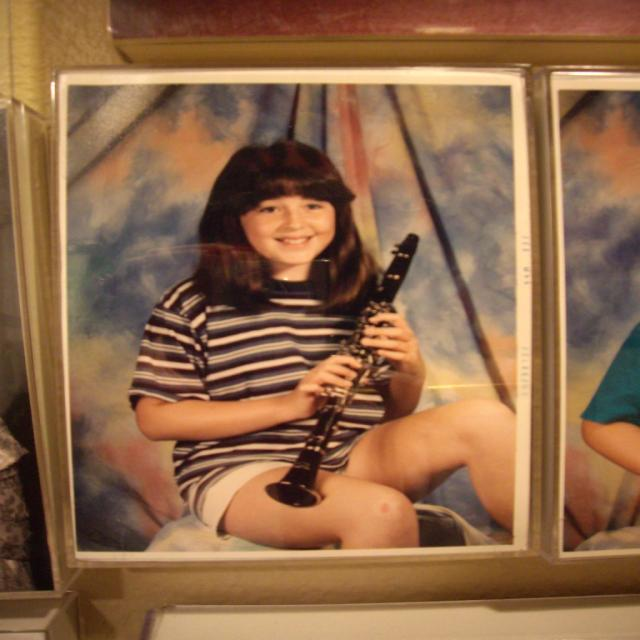clarinet: (262, 226, 426, 515)
